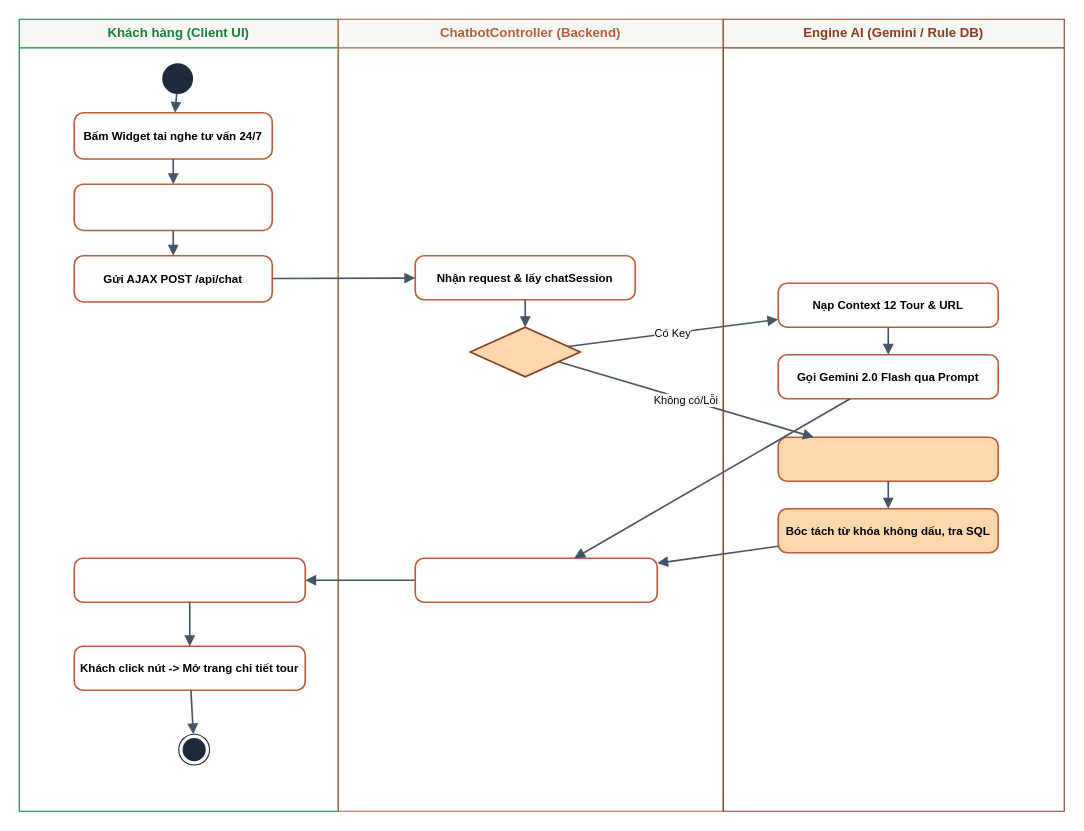
Some shapes in this 1084 by 831 pixel diagram are drawn without their labels. The centre of each missing label's shape, as x and y in pixels:
"Chuẩn hóa câu trả lời kèm link Markdown" goes at point 536,580.
"Có API Key AI?" goes at point 525,351.
"Gõ câu hỏi (VD: Tour Đà Lạt 3N2Đ)" goes at point 173,207.
"JavaScript parse link thành nút đất nung" goes at point 189,580.
"Kích hoạt Smart Fallback Engine" goes at point 888,459.
